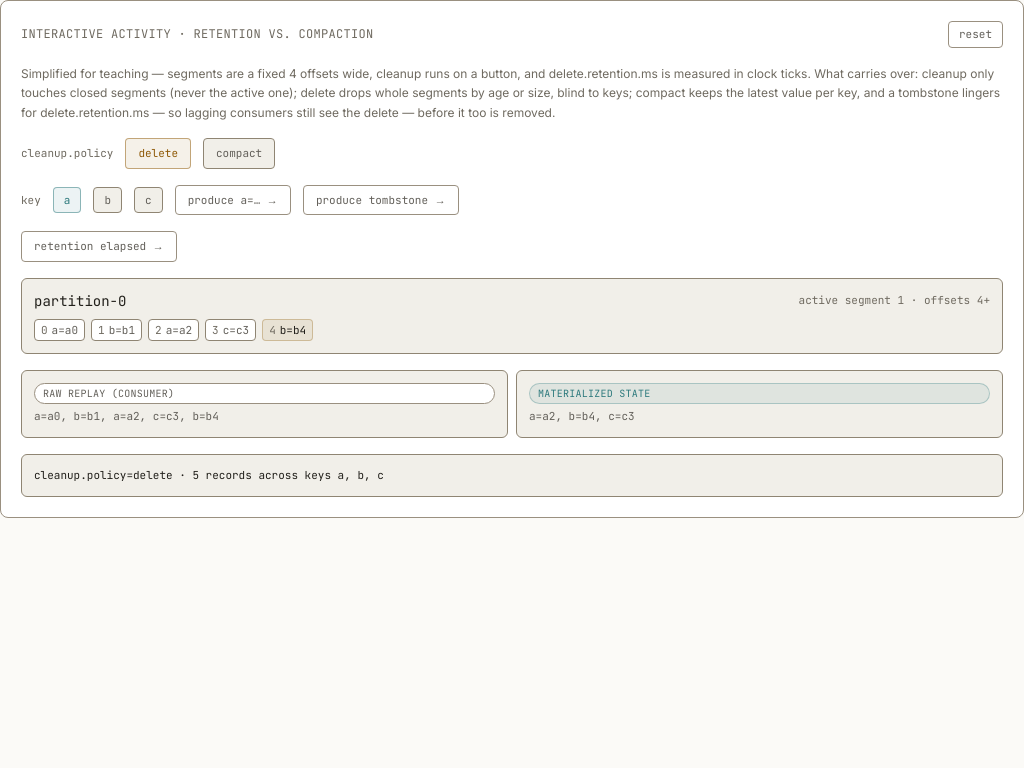
Test: RetentionCompactionDemo › delete ages out the oldest closed segment whole and never the active one
Step 1. Click the button "retention elapsed →" → point(99, 246), box left=21, top=231, right=177, bottom=262
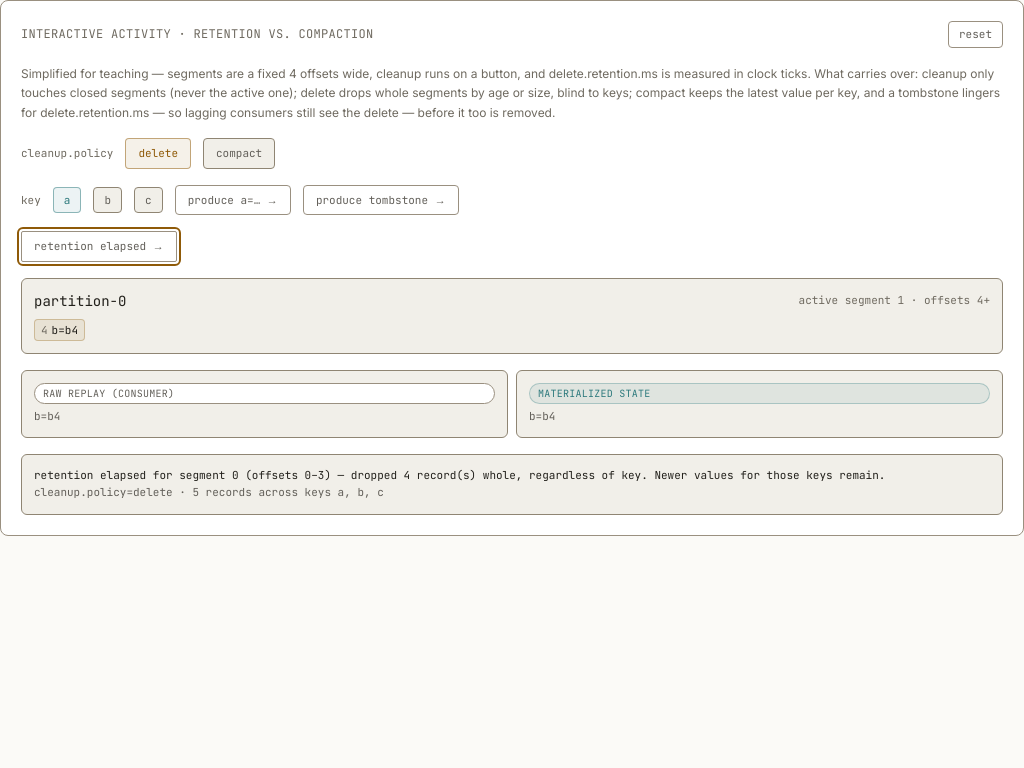
Expected: the element with test id "entry-4" is shown, left=34, top=318, right=85, bottom=341
Result: the element with test id "entry-0" is gone
Result: the text "dropped 4 record(s) whole, regardless of key" is shown at left=34, top=468, right=885, bottom=482
Step 2. Click the button "retention elapsed →" → point(99, 246), box left=21, top=231, right=177, bottom=262
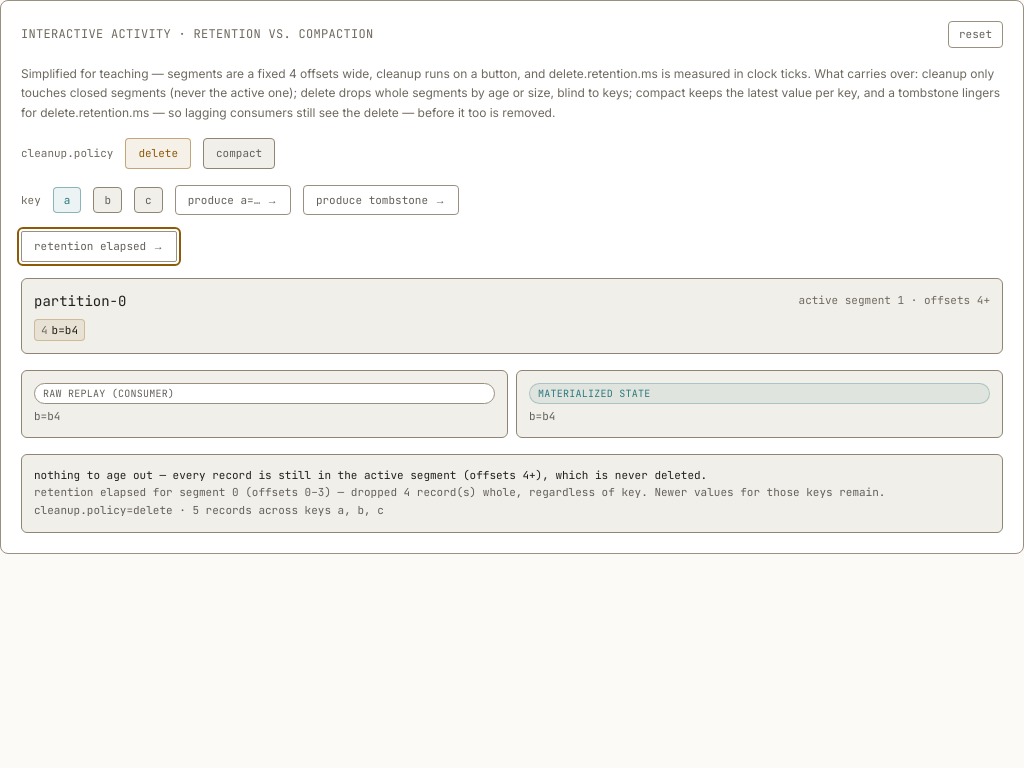
Result: the text "every record is still in the active segment" is shown at left=34, top=468, right=707, bottom=482
